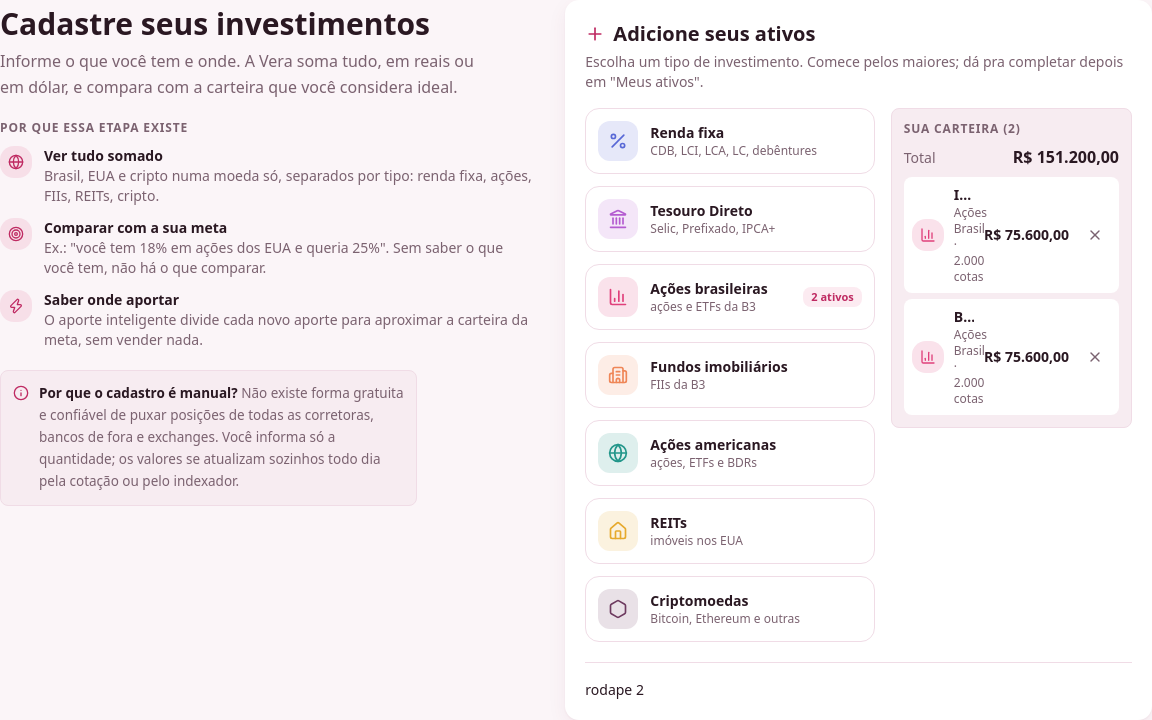
Test: AssetsStep › remove uma posição depois de confirmar e atualiza a coluna
Click the button named "Remover ITUB4" at (1095, 235), box [1079,219,1111,251]
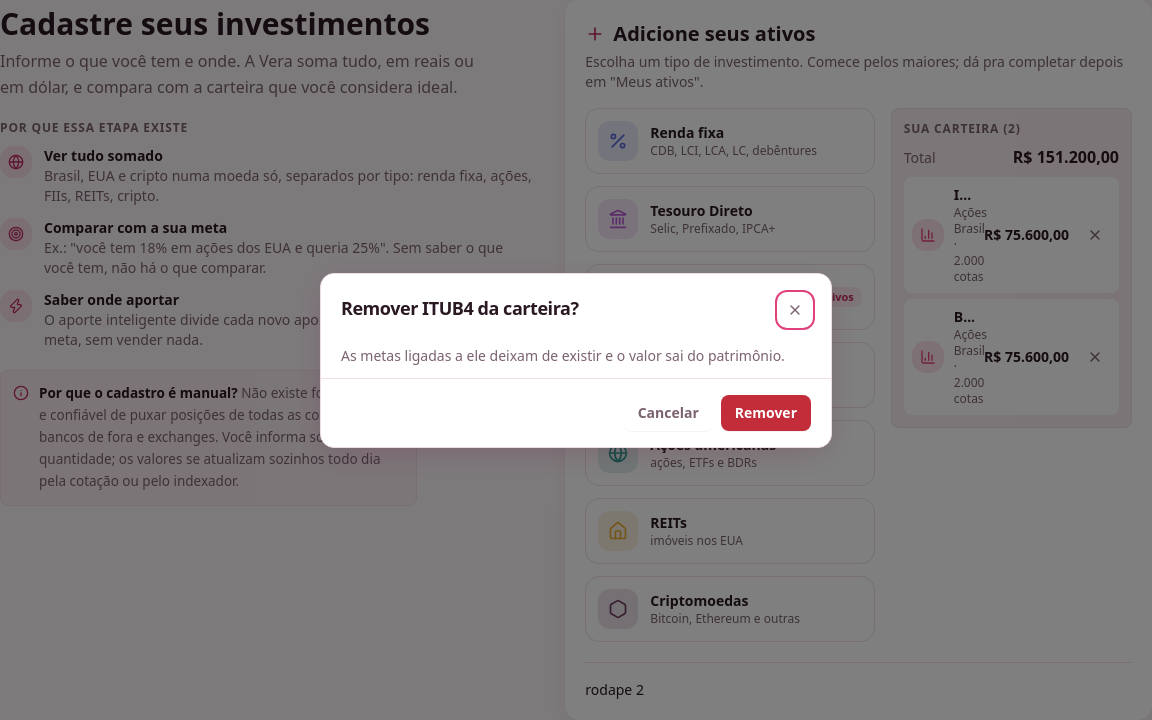
Click the button "Remover" at (766, 412), box [721,394,811,430]
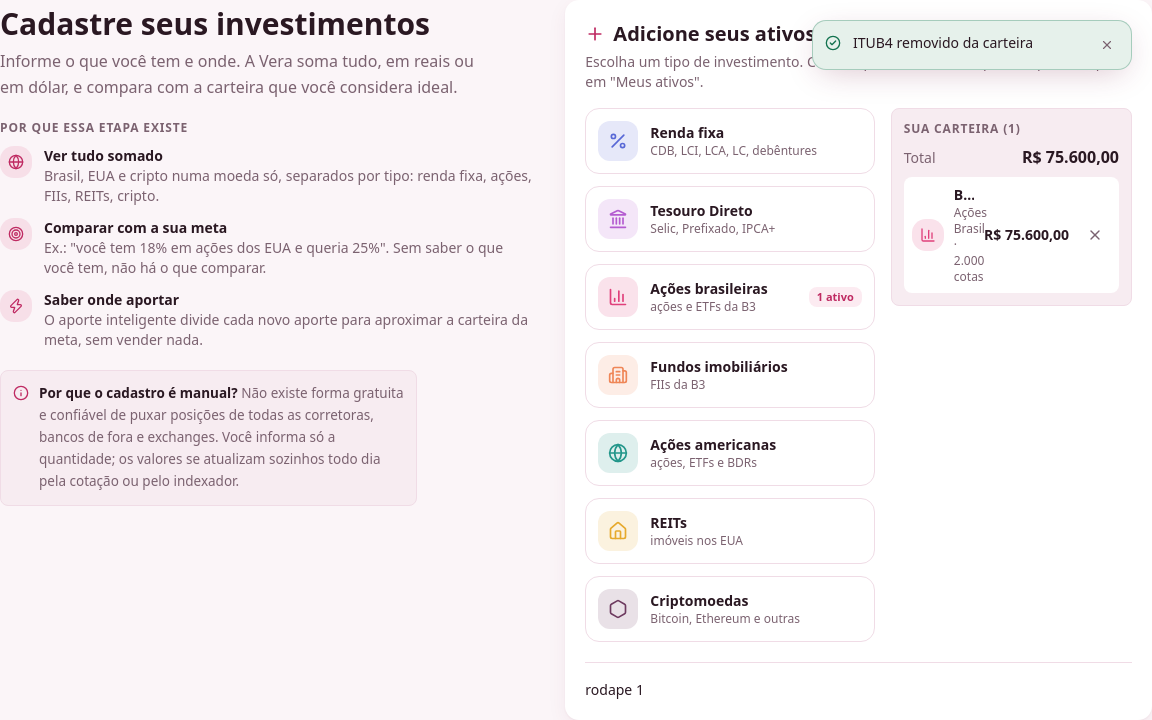
Now the heading "Sua carteira (1)" is shown, box [904,120,1021,137]
Now the text "ITUB4 removido da carteira" is shown, box [853,33,1033,53]
Now the heading "Remover ITUB4" is gone
